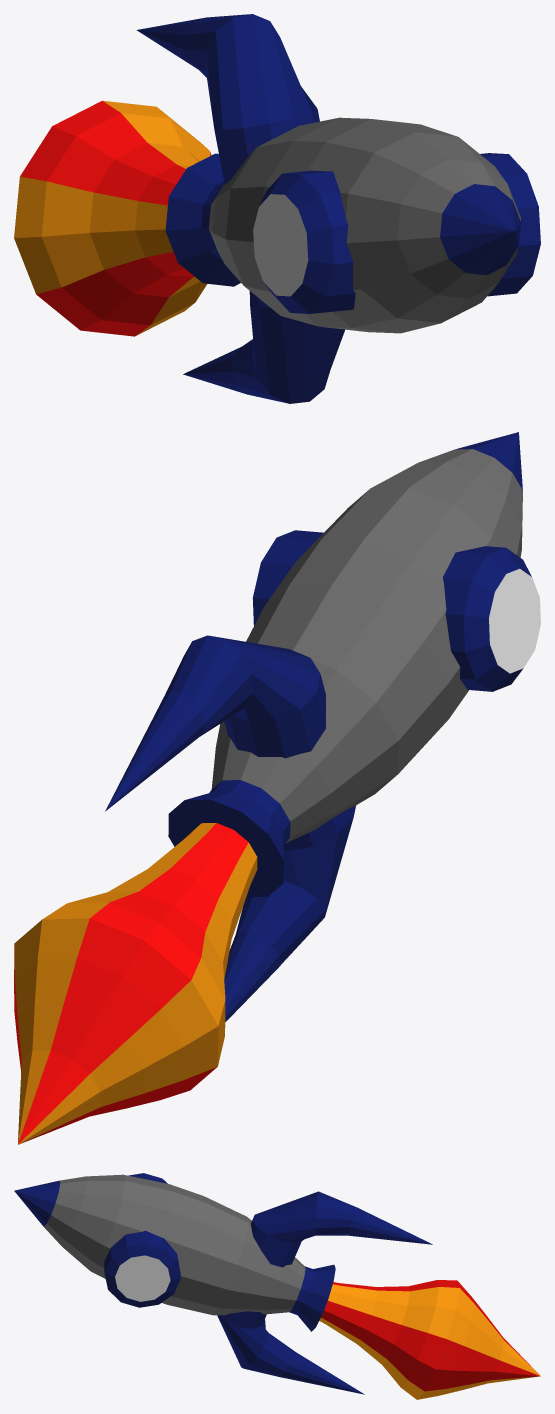
File: RocketShip.glb
3 renders of one model, top to bottom at view 1: azimuth 30°, elevation 25°; view 2: azimuth 150°, elevation 25°; view 3: azimuth 270°, elevation 25°, orthographic. The views are drawn at different scales.
Parts seen in each view (by area): view 1: group125571997; view 2: group125571997; view 3: group125571997.
Boxes of the visible parts, <box> form: group125571997: <box>14,14,540,403</box>; group125571997: <box>14,432,540,1144</box>; group125571997: <box>14,1173,540,1399</box>.
Bounding box in the file's own units: 0.2155 × 0.3409 × 0.7566.
